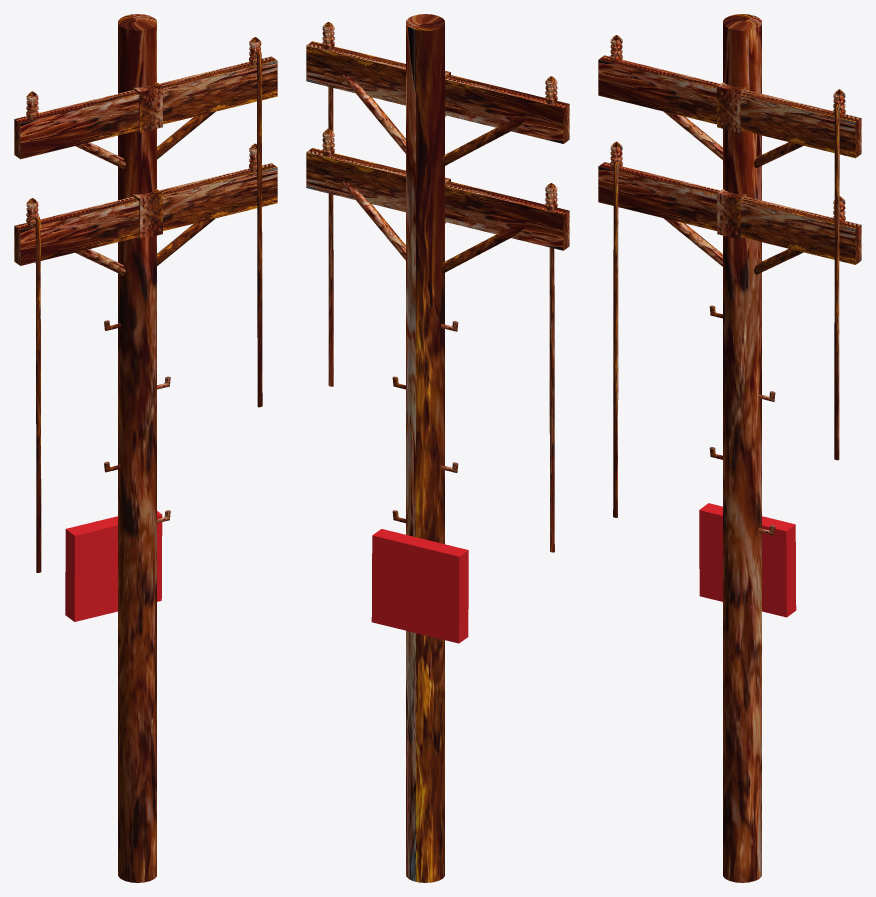
File: Postedg.obj
The picture shows the model from 3 angles, left to right: view 1: azimuth 30°, elevation 25°; view 2: azimuth 150°, elevation 25°; view 3: azimuth 330°, elevation 25°; orthographic projection.
Parts seen in each view (by area): view 1: Cylinder001, Box001, Box002, Box140, Loft002, Loft001, Box003, Box004, Cylinder005, Cylinder003; view 2: Cylinder001, Box140, Box001, Box002, Loft001, Loft002, Cylinder004, Cylinder002, Cylinder005, Cylinder003; view 3: Cylinder001, Box001, Box002, Box140, Loft002, Loft001, Box003, Box004, Cylinder002, Cylinder004.
Boxes of the visible parts, box(x1,y1,x2,y2) form: Cylinder001: box(118, 14, 156, 882); Box001: box(14, 56, 277, 159); Box002: box(14, 163, 277, 265); Box140: box(65, 511, 162, 621); Loft002: box(255, 51, 262, 407); Loft001: box(34, 216, 41, 572); Box003: box(133, 82, 162, 132); Box004: box(133, 188, 162, 239); Cylinder005: box(157, 218, 215, 265); Cylinder003: box(157, 111, 215, 159); Cylinder001: box(406, 14, 444, 882); Box140: box(371, 529, 468, 643); Box001: box(306, 41, 569, 143); Box002: box(306, 148, 569, 250); Loft001: box(549, 247, 554, 552); Loft002: box(328, 87, 333, 386); Cylinder004: box(441, 224, 524, 273); Cylinder002: box(441, 118, 524, 166); Cylinder005: box(342, 181, 405, 260); Cylinder003: box(342, 74, 405, 153); Cylinder001: box(723, 14, 761, 882); Box001: box(598, 55, 861, 158); Box002: box(598, 162, 861, 264); Box140: box(699, 503, 796, 617); Loft002: box(834, 103, 840, 460); Loft001: box(613, 161, 619, 517); Box003: box(717, 82, 746, 132); Box004: box(717, 188, 746, 239); Cylinder002: box(663, 111, 722, 159); Cylinder004: box(663, 218, 722, 266).
Size of the model in its own units: 30 by 95 by 6.93.
